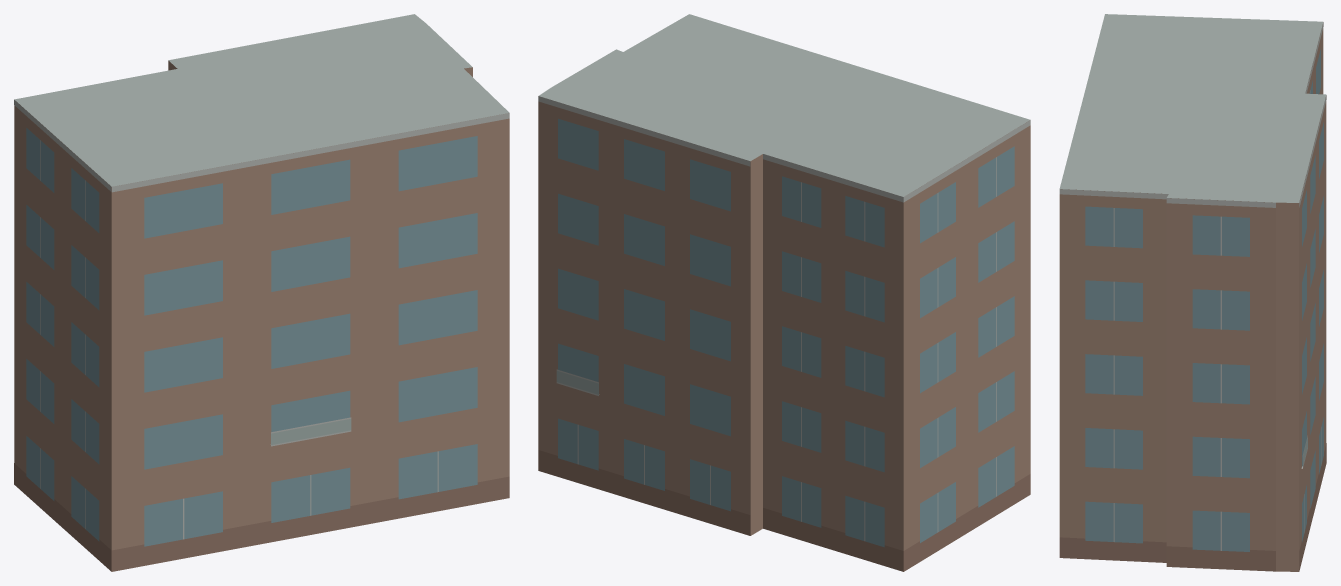
File: survey-upis-32494892.glb
The picture shows the model from 3 angles, left to right: view 1: azimuth 30°, elevation 25°; view 2: azimuth 150°, elevation 25°; view 3: azimuth 270°, elevation 25°; orthographic projection. The views are drawn at different scales.
Parts seen in each view (by area): view 1: survey-upis-32494892.tmp; view 2: survey-upis-32494892.tmp; view 3: survey-upis-32494892.tmp.
Boxes of the visible parts, x1,y1,x2,y2 form: survey-upis-32494892.tmp: [14, 14, 509, 571]; survey-upis-32494892.tmp: [538, 14, 1030, 571]; survey-upis-32494892.tmp: [1059, 14, 1326, 571].
Size of the model in its own units: 18.45 by 16.79 by 11.02.
